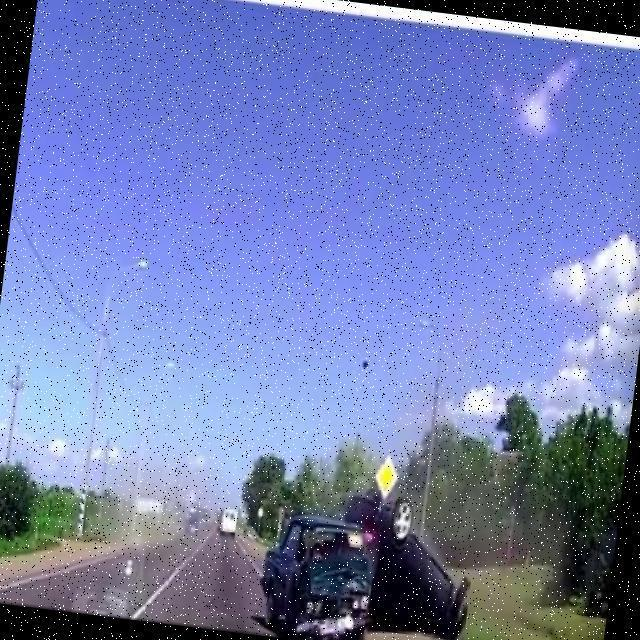accident: (256, 486, 483, 640)
